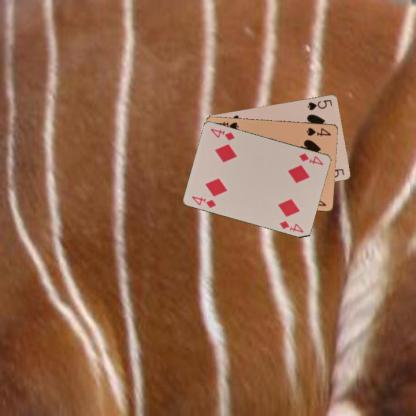4d: (296, 150, 325, 166), (190, 193, 217, 209)
4s: (304, 125, 332, 137)
5s: (305, 97, 333, 111)
